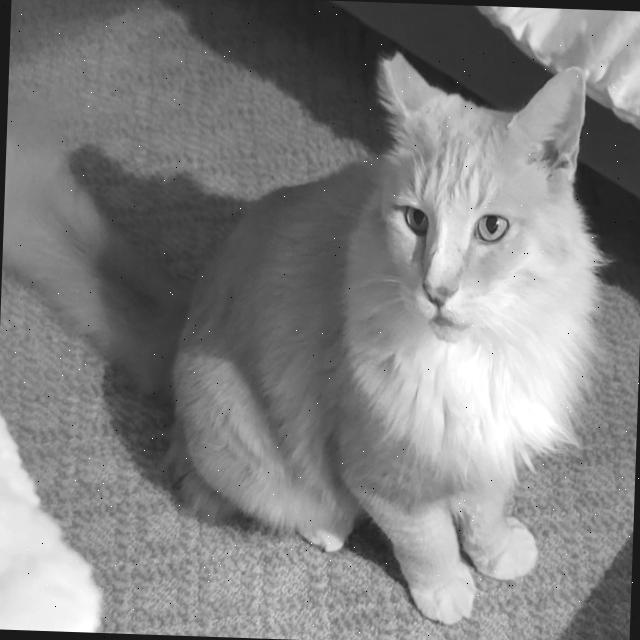maine_coon_cat: (351, 41, 607, 362)
